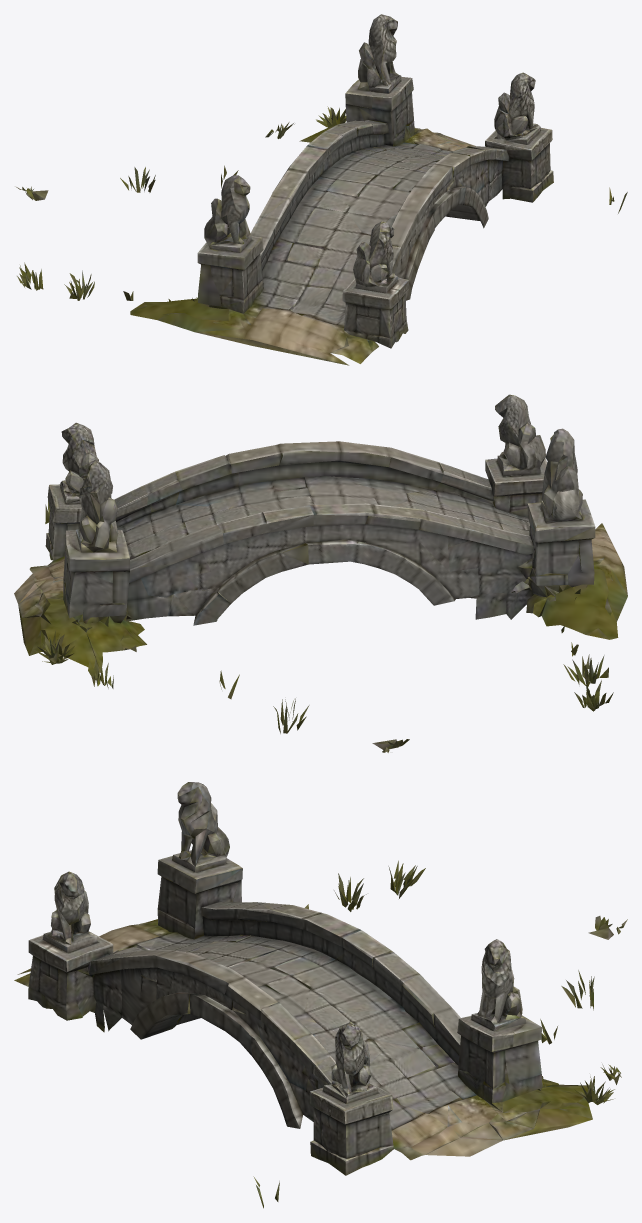
File: bridge.glb
3 renders of one model, top to bottom at view 1: azimuth 30°, elevation 25°; view 2: azimuth 150°, elevation 25°; view 3: azimuth 270°, elevation 25°, orthographic. The views are drawn at different scales.
Size of the model in its own units: 2.1 by 0.5859 by 1.71.
1 material, 1 textured.
